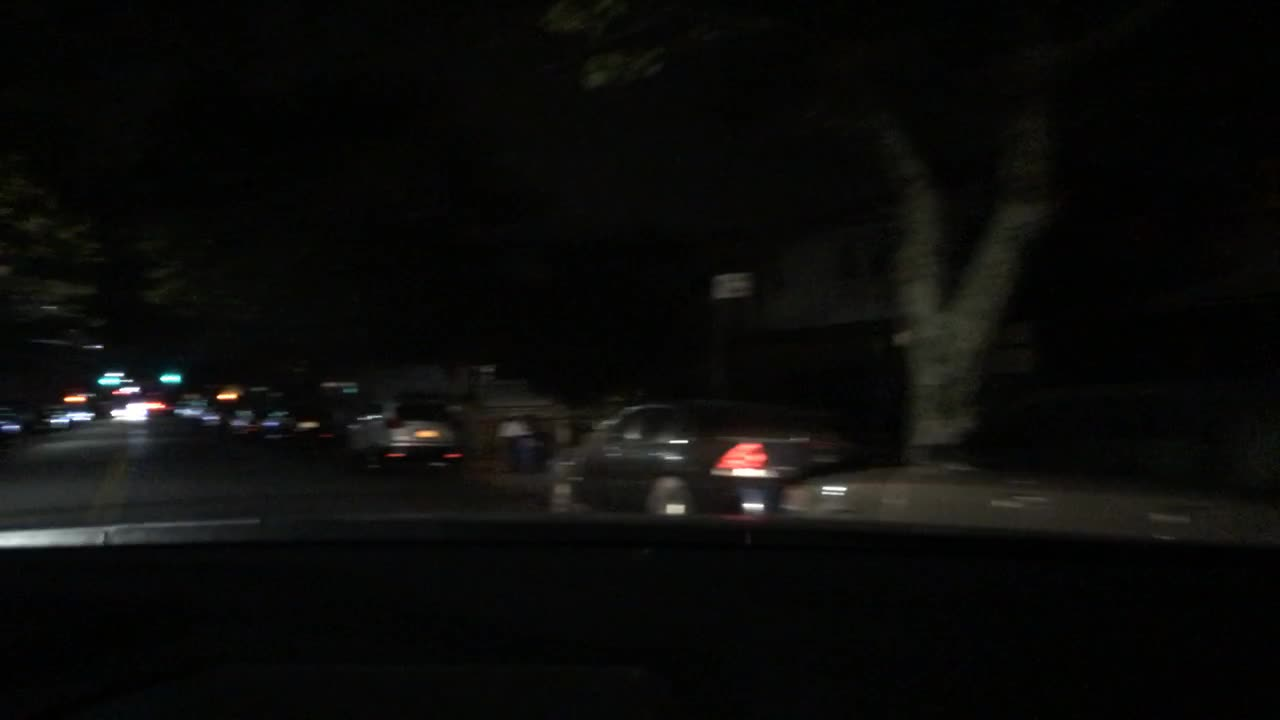car: (780, 404, 1279, 549), (540, 404, 867, 513), (340, 409, 458, 471), (219, 387, 273, 437), (288, 407, 343, 446), (249, 400, 301, 436), (168, 391, 210, 423), (31, 404, 73, 431), (0, 401, 31, 436), (61, 399, 99, 424), (126, 396, 169, 416), (201, 400, 228, 428), (108, 401, 147, 420)
traffic sign: (707, 267, 759, 300)
